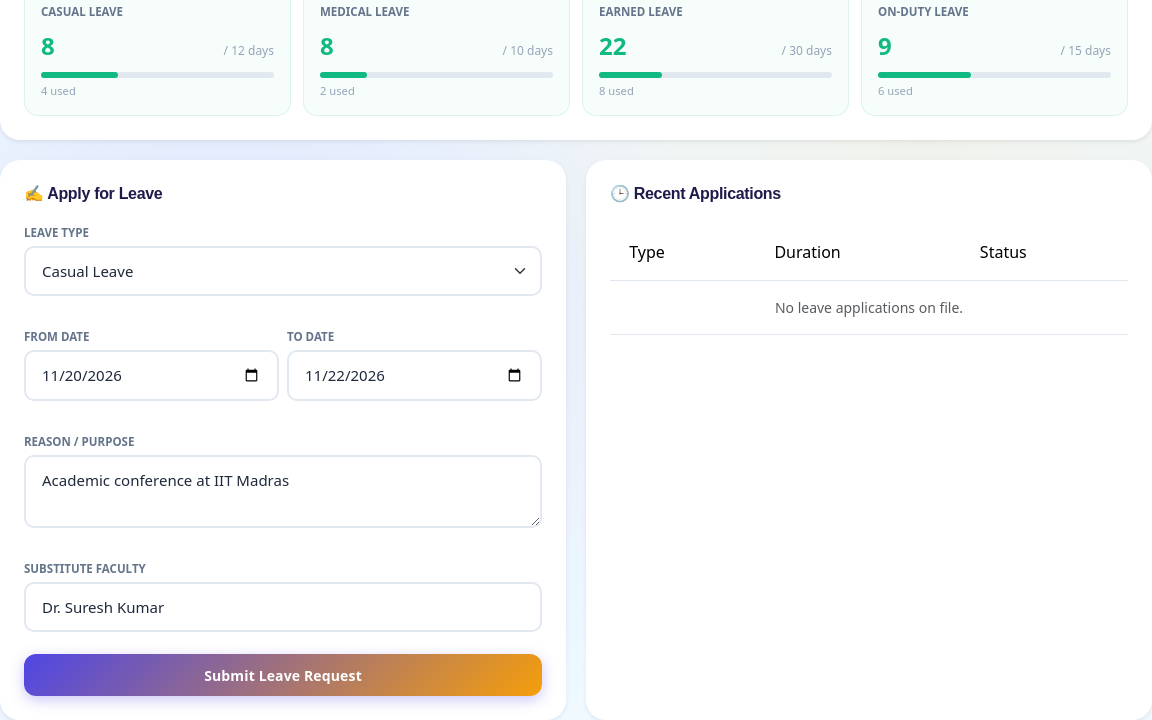
Test: FacultyLeaveApplication Component Tests › submits faculty leave application and shows success toast
(page scrolled)
Step 1. Click the button with test id "submit-leave-btn" → (283, 675), box [24,654,542,696]
(page scrolled)
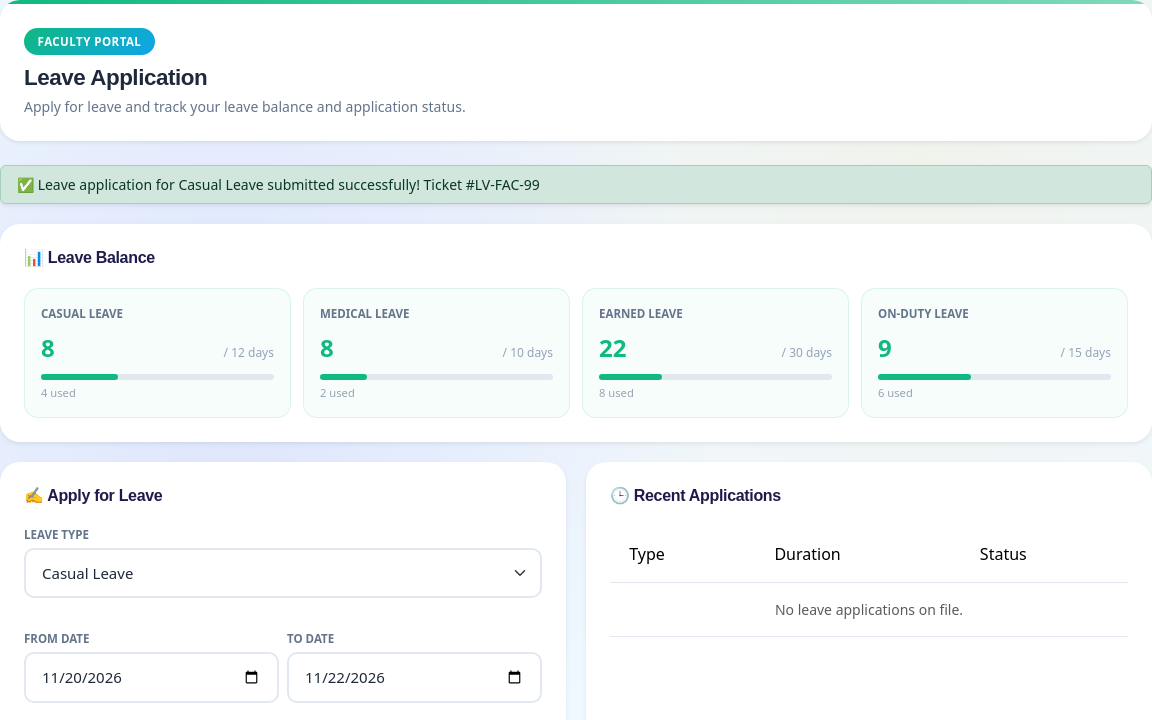
Result: the text "✅ Leave application for Casual Leave submitted successfully! Ticket #LV-FAC-99" is shown at [0,165,1151,204]
